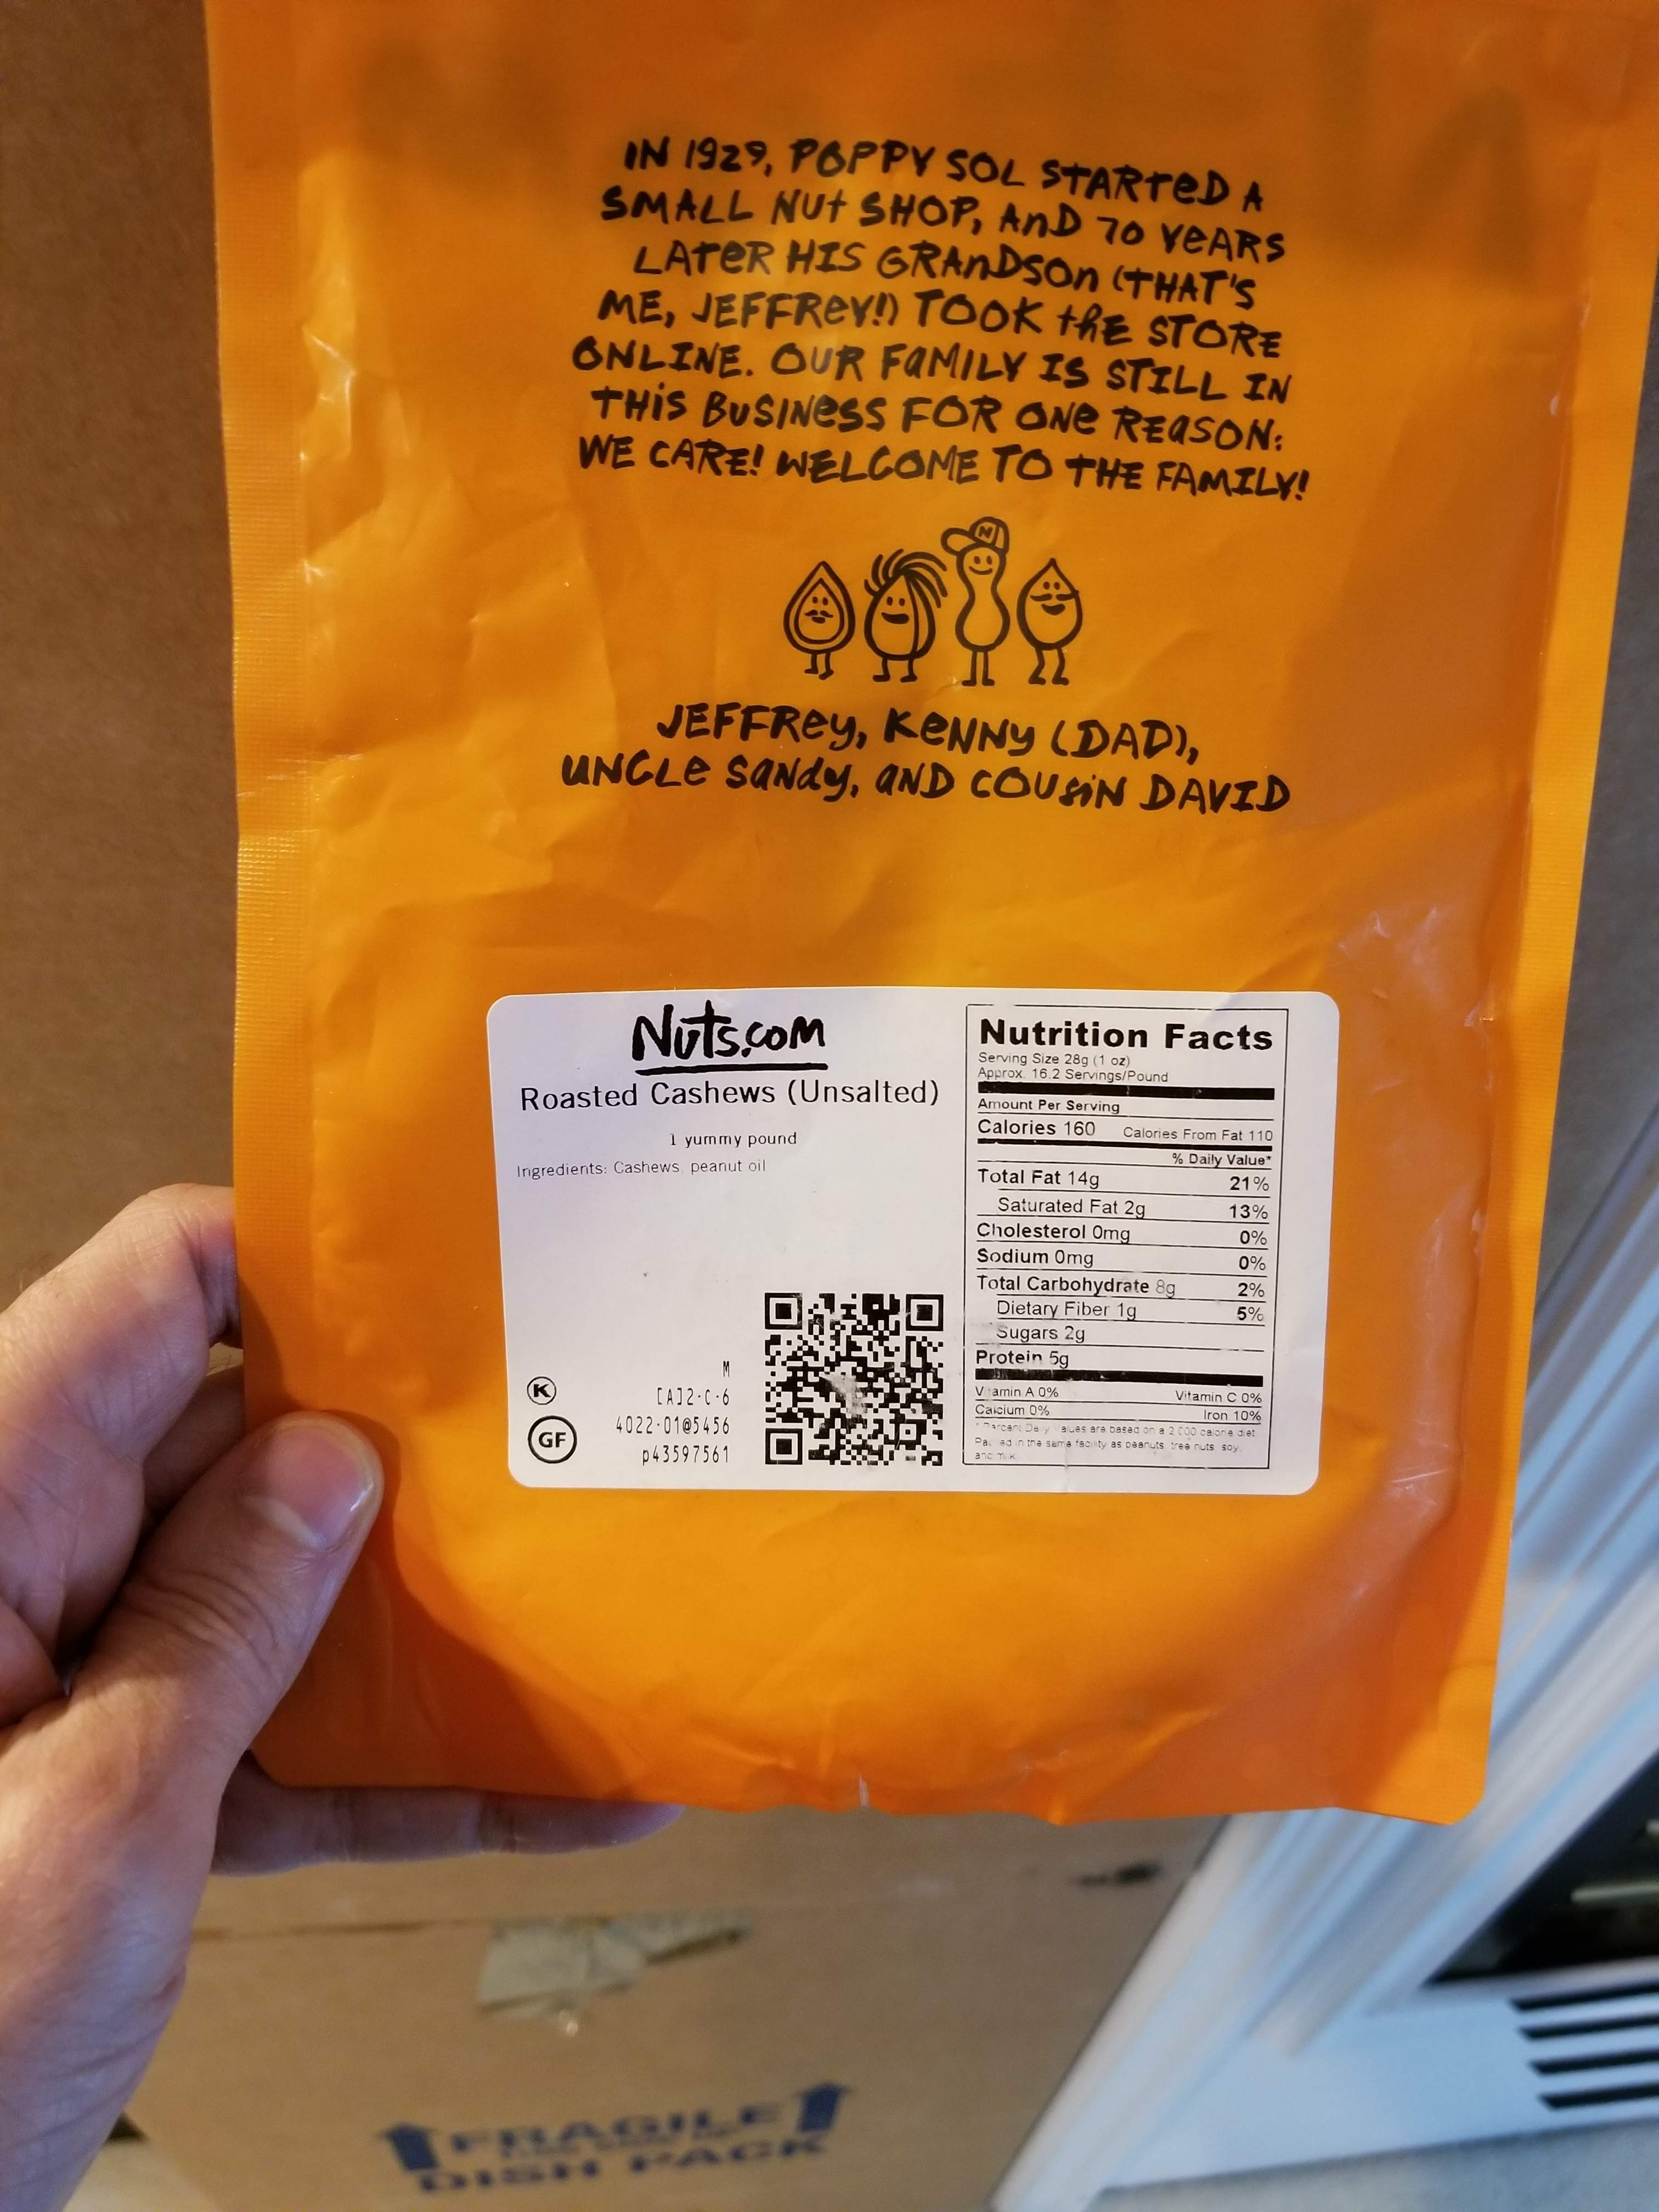QR_CODE: (725, 1233, 986, 1491)
